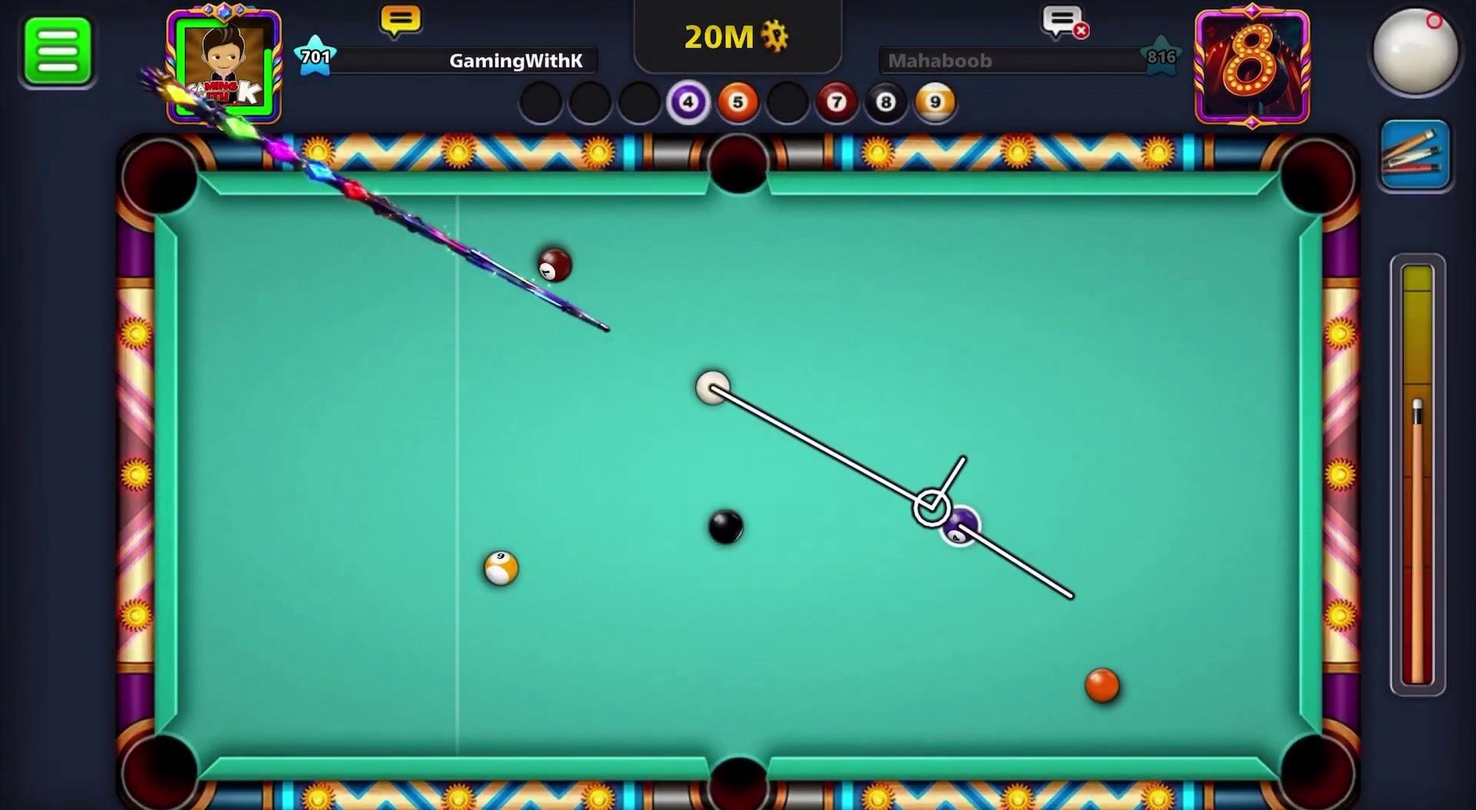Ball: (696, 502, 751, 551), (474, 542, 525, 590), (526, 244, 576, 287), (1081, 664, 1127, 705), (939, 506, 981, 546)
Force: (1384, 251, 1453, 699)
Guideline: (695, 370, 1075, 600)
Hole: (107, 124, 221, 236), (1269, 128, 1366, 231), (1267, 717, 1363, 809), (692, 124, 787, 208), (115, 727, 205, 809), (694, 734, 779, 809)
Play_Area: (173, 191, 1300, 759)
Spin: (1345, 1, 1475, 113)
White: (685, 360, 736, 413)
